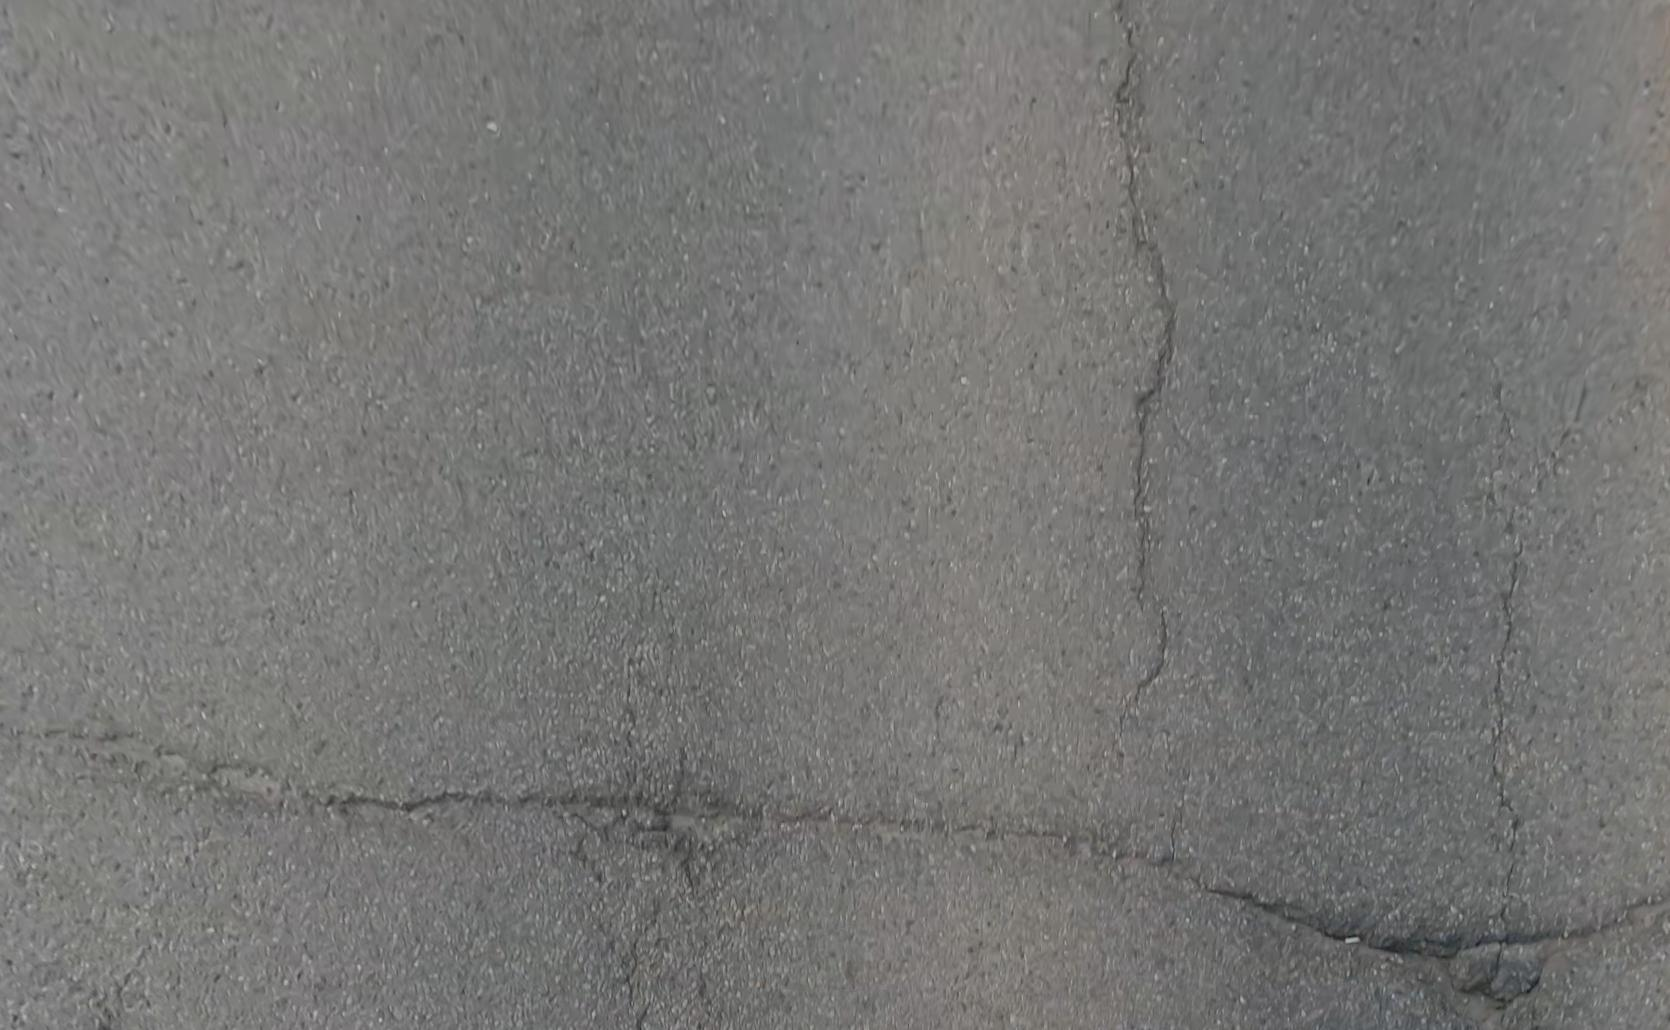pothole: (1392, 943, 1552, 1030)
